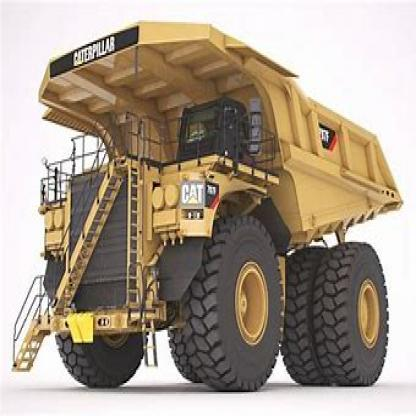dump_truck: (14, 11, 395, 387)
